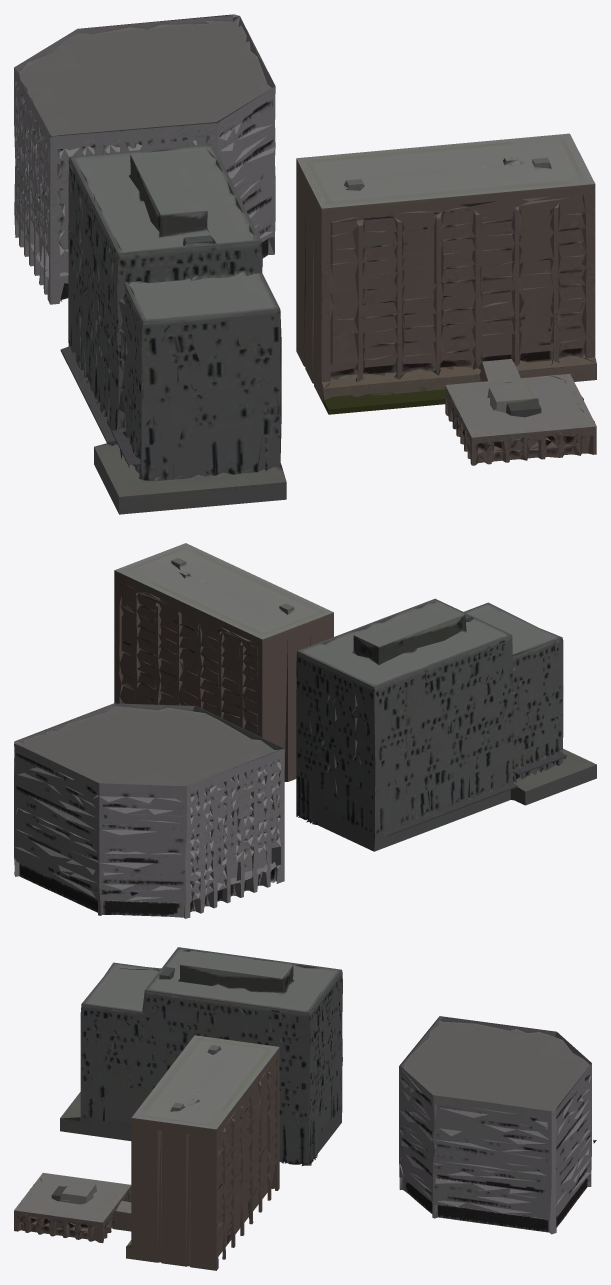
File: t_0_3.coat.glb
3 views of the same model, one above another, from view 1: azimuth 30°, elevation 25°; view 2: azimuth 150°, elevation 25°; view 3: azimuth 270°, elevation 25° (orthographic). The views are drawn at different scales.
Parts seen in each view (by area): view 1: far; view 2: far; view 3: far.
Boxes of the visible parts, x1=… form: far: x1=14, y1=14, x2=596, y2=514; far: x1=14, y1=543, x2=596, y2=918; far: x1=14, y1=947, x2=596, y2=1270.
Bounding box in the file's own units: 158 × 65.19 × 205.
1 material, 1 textured.
